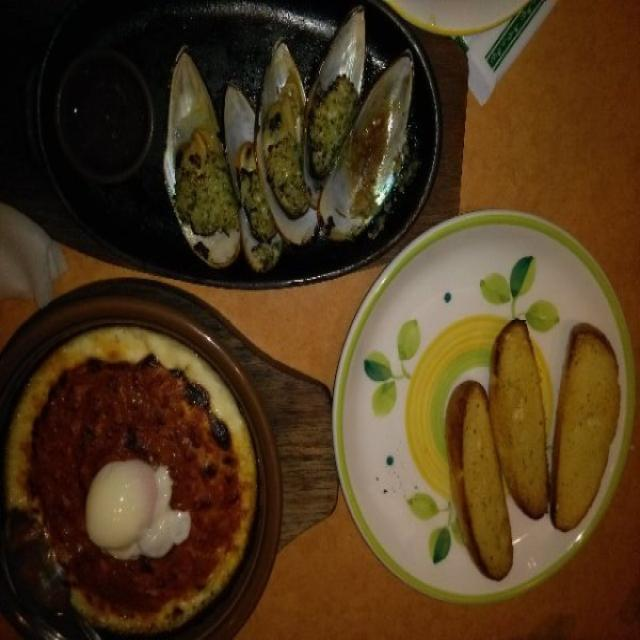Pizza: (0, 323, 266, 640)
